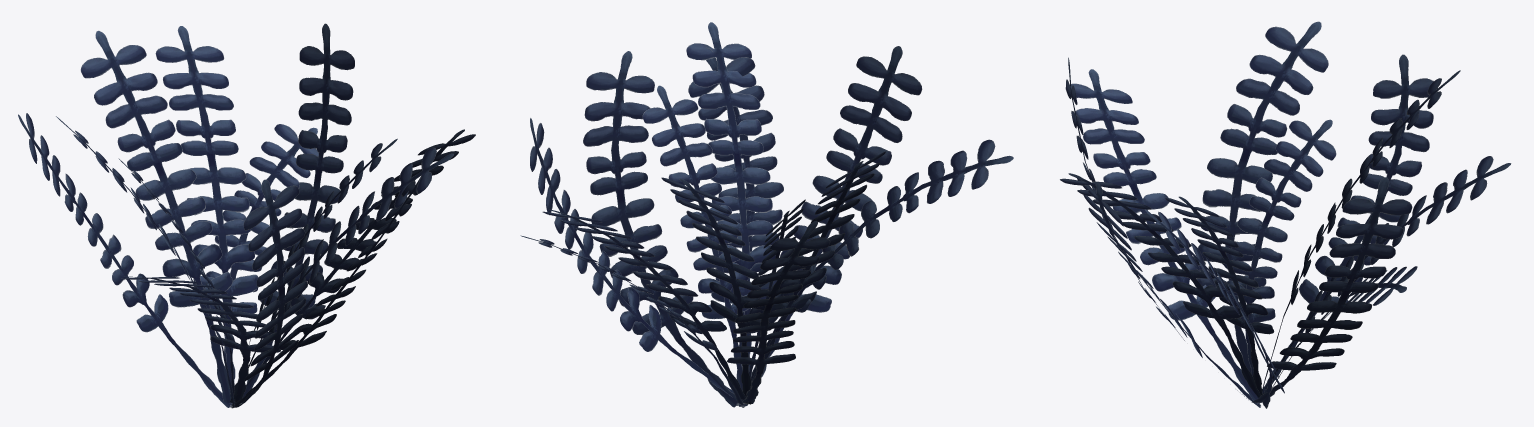
File: d blue fern bush 1.fbx
3 views of the same model, side by side, from view 1: azimuth 30°, elevation 25°; view 2: azimuth 150°, elevation 25°; view 3: azimuth 270°, elevation 25° (orthographic). The views are drawn at different scales.
Visible parts, largest first — view 1: blue_fern3, blue_fern9, blue_fern4, blue_fern6, blue_fern11, blue_fern7, blue_fern8, blue_fern10, blue_fern5, blue_fern1, blue_fern13, blue_fern2 (+1 smaller); view 2: blue_fern5, blue_fern8, blue_fern6, blue_fern13, blue_fern11, blue_fern10, blue_fern4, blue_fern3, blue_fern1, blue_fern9, blue_fern2, blue_fern7 (+1 smaller); view 3: blue_fern2, blue_fern4, blue_fern10, blue_fern12, blue_fern11, blue_fern8, blue_fern13, blue_fern9, blue_fern3, blue_fern1, blue_fern5, blue_fern7 (+1 smaller).
Part boxes in pixels (<box>): blue_fern3: <box>80,30,232,403</box>; blue_fern9: <box>155,26,258,383</box>; blue_fern4: <box>239,23,354,404</box>; blue_fern6: <box>238,179,307,406</box>; blue_fern11: <box>18,113,232,407</box>; blue_fern7: <box>206,124,318,360</box>; blue_fern8: <box>232,147,453,405</box>; blue_fern10: <box>121,276,280,403</box>; blue_fern5: <box>246,129,475,386</box>; blue_fern1: <box>230,160,431,408</box>; blue_fern13: <box>232,138,397,404</box>; blue_fern2: <box>56,116,234,406</box>; blue_fern5: <box>583,51,739,407</box>; blue_fern8: <box>686,22,776,376</box>; blue_fern6: <box>752,46,922,377</box>; blue_fern13: <box>642,85,749,404</box>; blue_fern11: <box>727,221,830,403</box>; blue_fern10: <box>751,139,1013,381</box>; blue_fern4: <box>530,118,733,397</box>; blue_fern3: <box>661,177,771,404</box>; blue_fern1: <box>688,47,783,407</box>; blue_fern9: <box>542,209,748,404</box>; blue_fern2: <box>742,151,885,403</box>; blue_fern7: <box>520,235,743,405</box>; blue_fern2: <box>1196,21,1328,372</box>; blue_fern4: <box>1251,177,1412,402</box>; blue_fern10: <box>1065,69,1259,404</box>; blue_fern12: <box>1222,119,1336,402</box>; blue_fern11: <box>1262,54,1437,393</box>; blue_fern8: <box>1060,173,1260,397</box>; blue_fern13: <box>1165,196,1274,395</box>; blue_fern9: <box>1263,156,1511,393</box>; blue_fern3: <box>1262,70,1460,391</box>; blue_fern1: <box>1077,178,1260,407</box>; blue_fern5: <box>1145,209,1284,408</box>; blue_fern7: <box>1272,266,1417,387</box>.
Size of the model in its own units: 11.68 by 8.99 by 11.55.
Materials: 1 (1 with a texture image).
